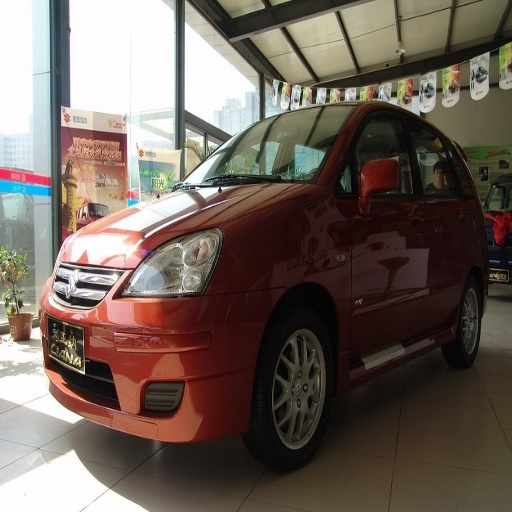front_bumper: (41, 257, 268, 440)
front_glass: (179, 108, 352, 190)
front_left_door: (350, 107, 438, 360)
